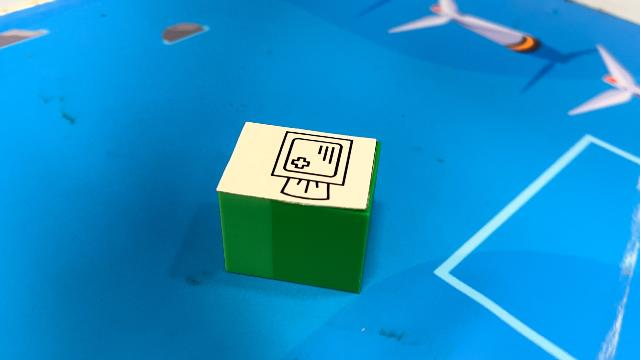napkin: (214, 118, 382, 294)
